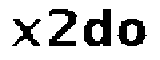2: (47, 7, 77, 49)
d: (81, 7, 115, 50)
o: (118, 15, 149, 49)
x: (11, 16, 40, 50)
